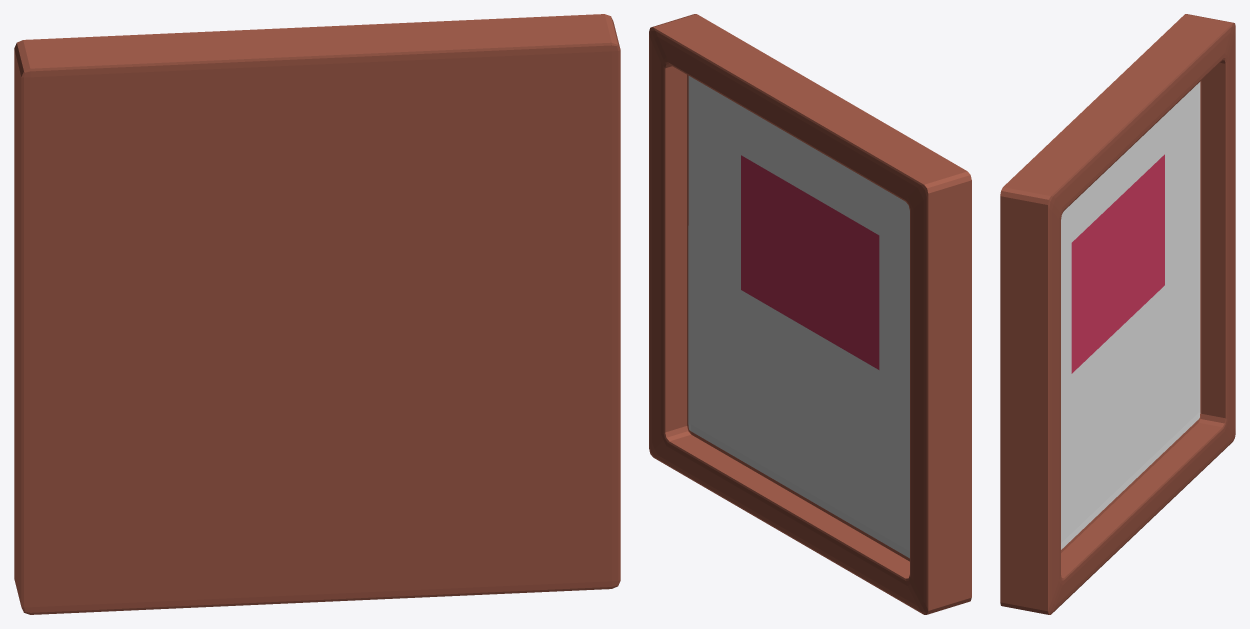
Rendered from tablo7.fbx.
3 views of the same model, side by side, from view 1: azimuth 30°, elevation 25°; view 2: azimuth 150°, elevation 25°; view 3: azimuth 270°, elevation 25° (orthographic). The views are drawn at different scales.
Visible parts, largest first — view 1: Cube.002; view 2: Cube.002; view 3: Cube.002.
Part boxes in pixels (bbox=[...]): Cube.002: bbox=[14, 14, 620, 614]; Cube.002: bbox=[649, 14, 971, 614]; Cube.002: bbox=[1000, 14, 1235, 614].
Size of the model in its own units: 674 by 702 by 358.
